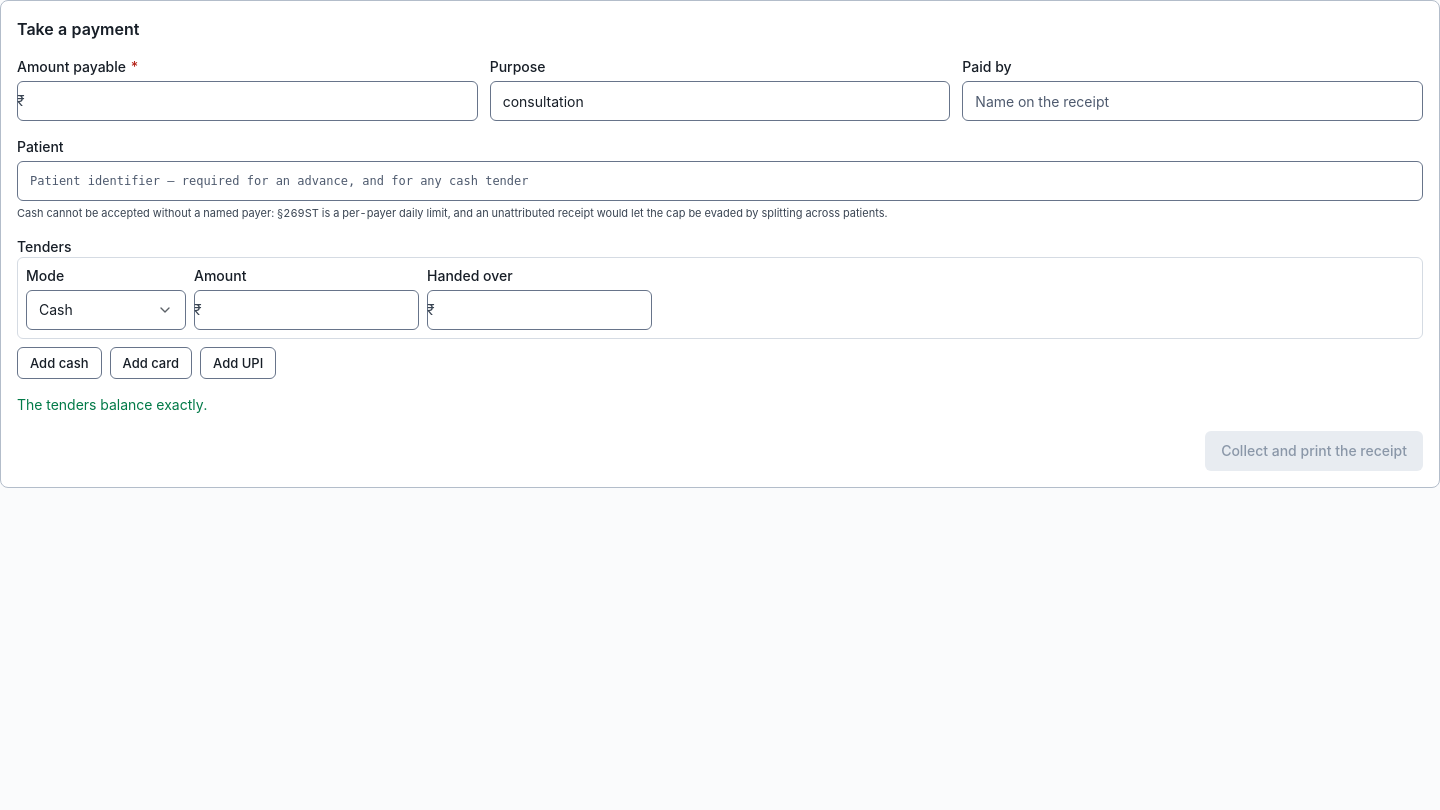
Test case: taking money › renders the server’s §269ST refusal with the remaining headroom, and never a retry
Type "60000.00" into the field with test id "collect-amount" at (247, 101), box [17,81,478,121]
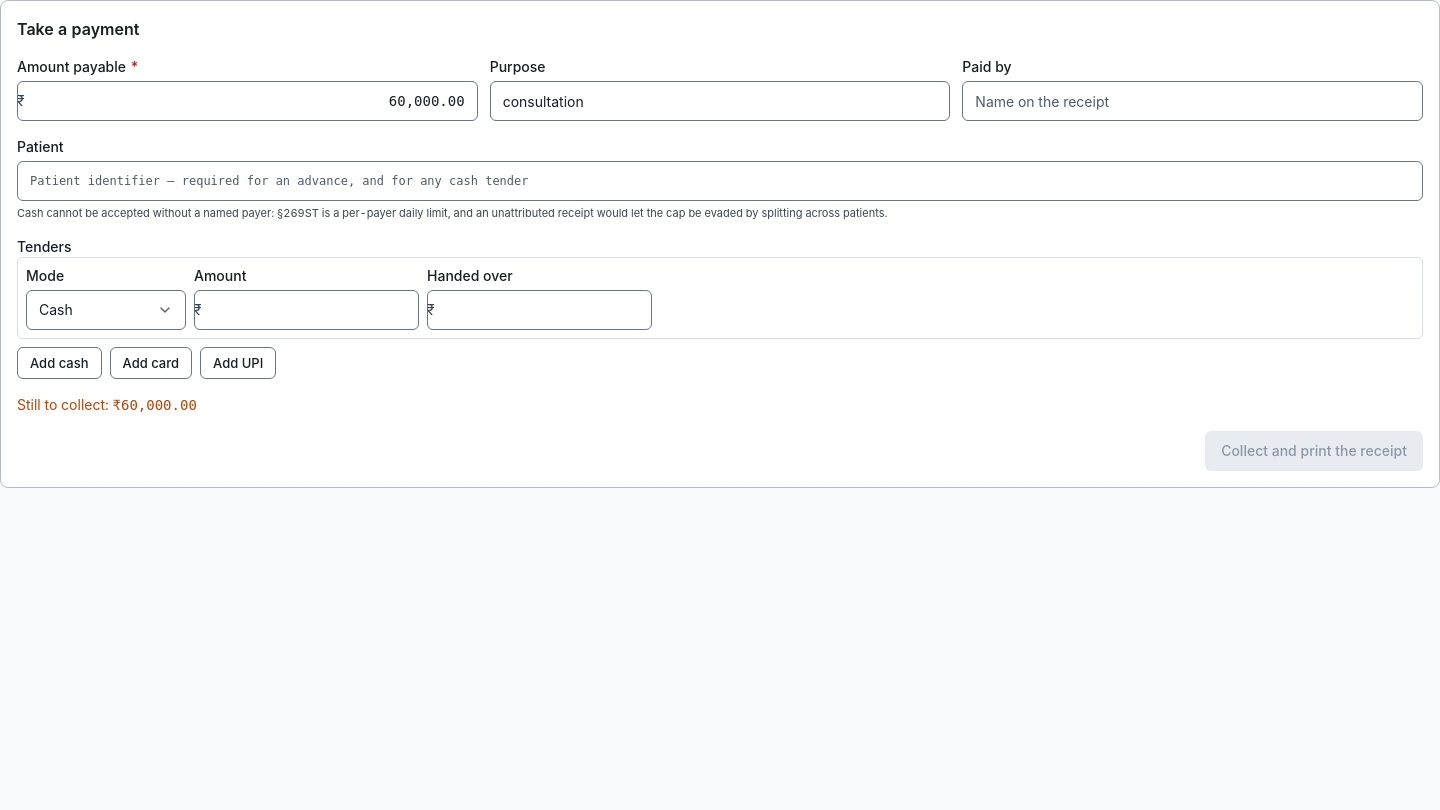
Type "60000.00" into the field with test id "tender-amount-cash" at (306, 310), box [194,290,419,330]
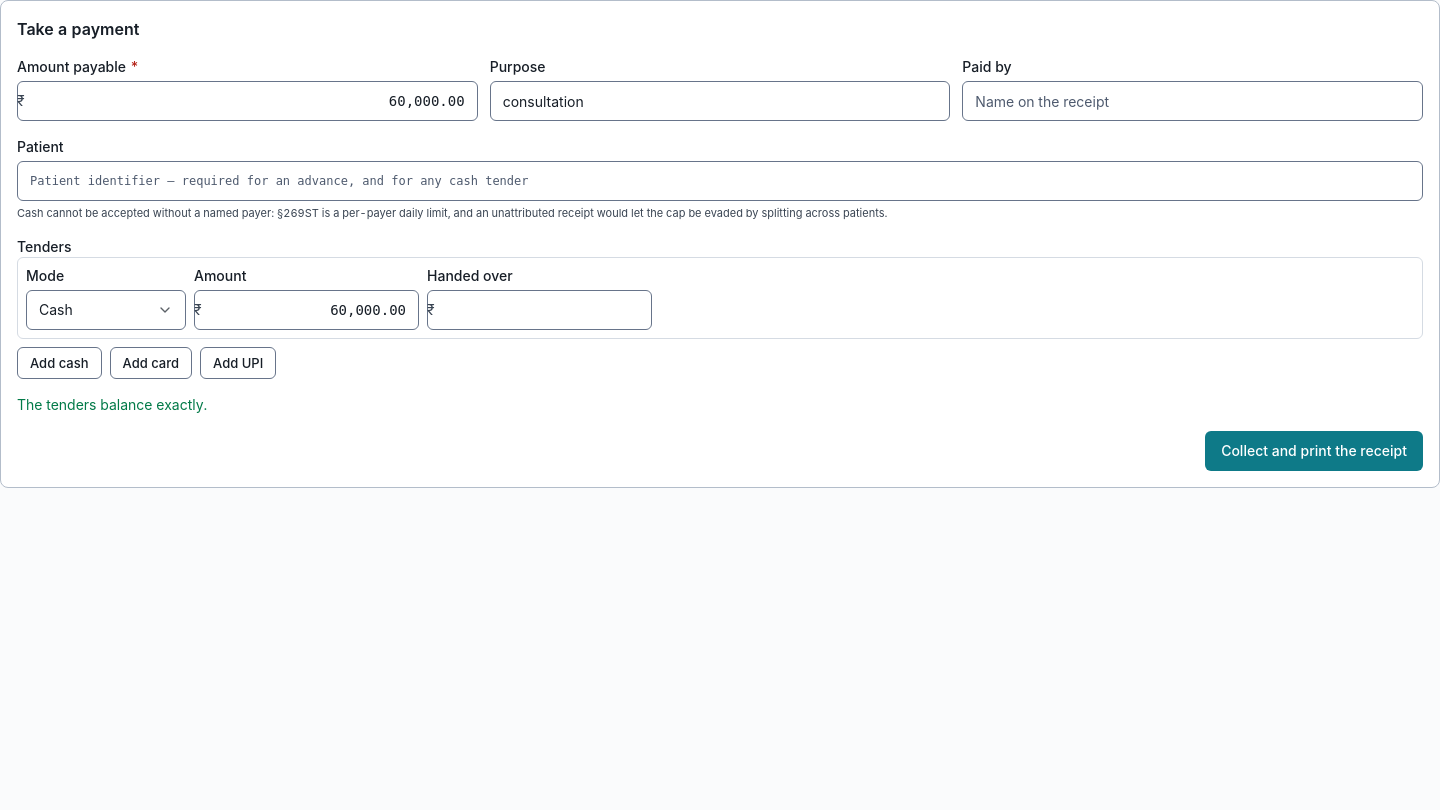
Click the button with test id "collect-confirm" at (1314, 451), box [1205,431,1423,471]
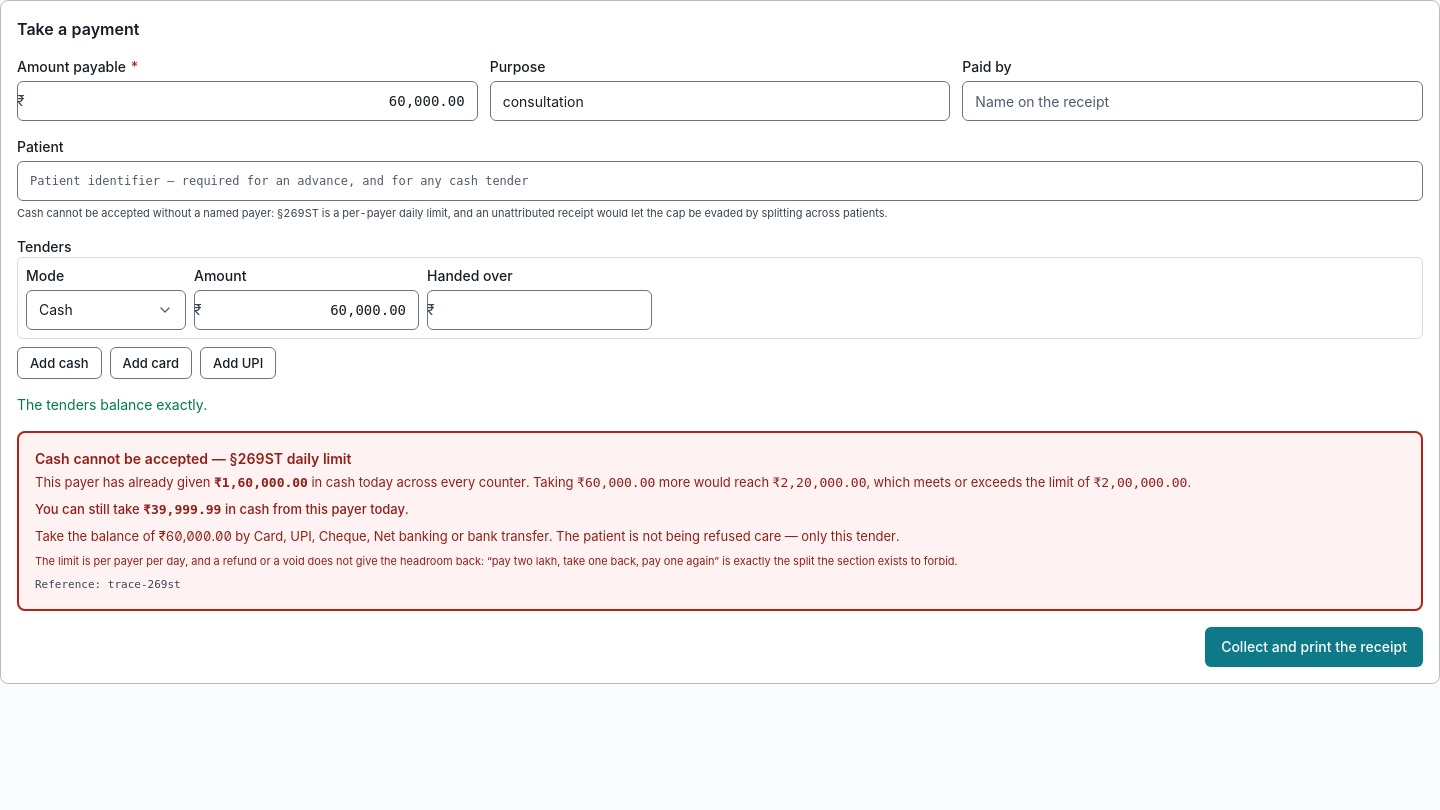
Expected: the message with test id "cash-cap-notice" shows "§269ST", [35,450,352,467]
Expected: the text with test id "cap-already" shows "1,60,000.00", [214,475,308,490]
Expected: the text with test id "cap-headroom" shows "39,999.99", [143,502,221,517]
